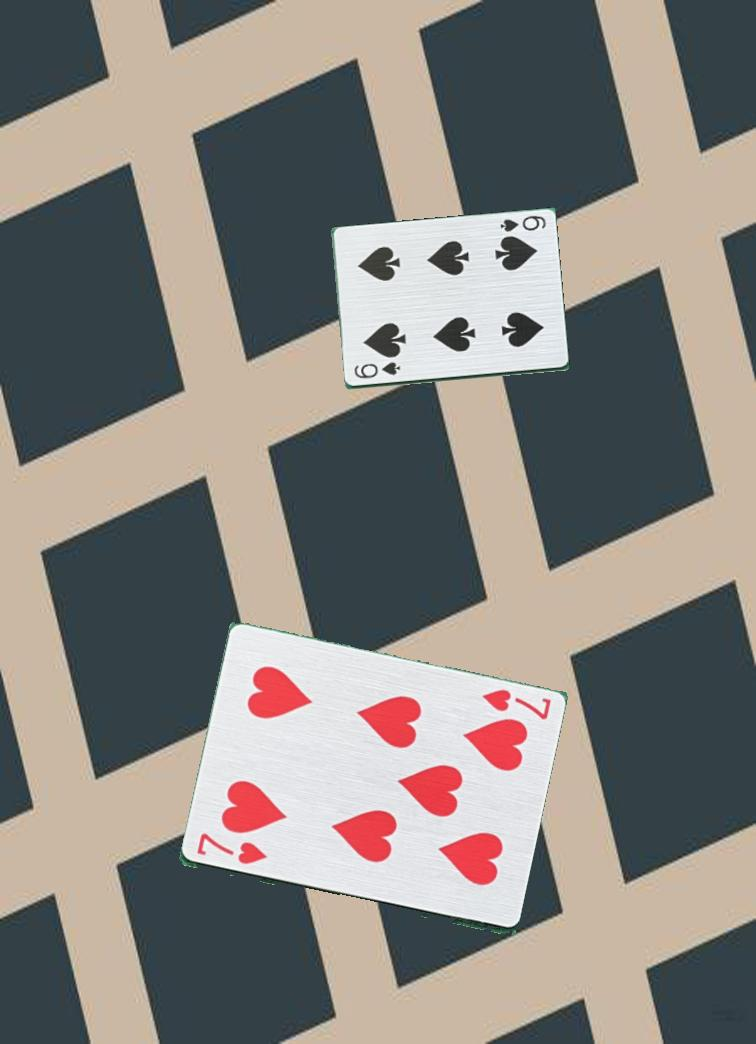6s: (494, 212, 549, 235), (350, 360, 404, 382)
7h: (469, 686, 554, 728), (187, 831, 270, 868)
